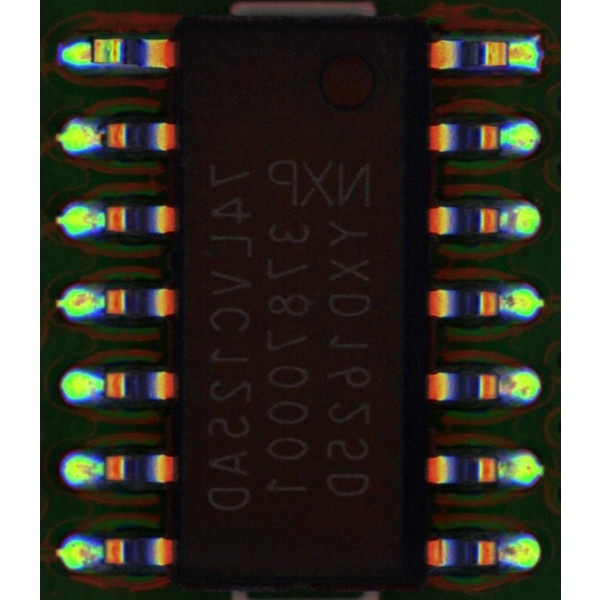Bad_qiaojiao: (490, 44, 522, 60), (79, 47, 109, 60)
